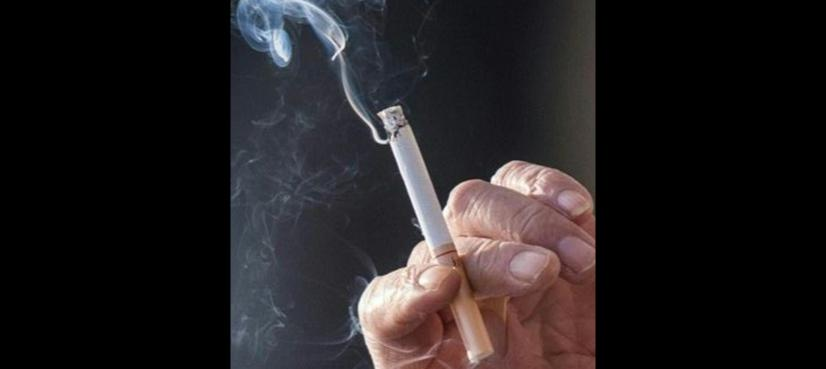Cigarette: (378, 106, 493, 359)
Smoke: (238, 0, 373, 63)
